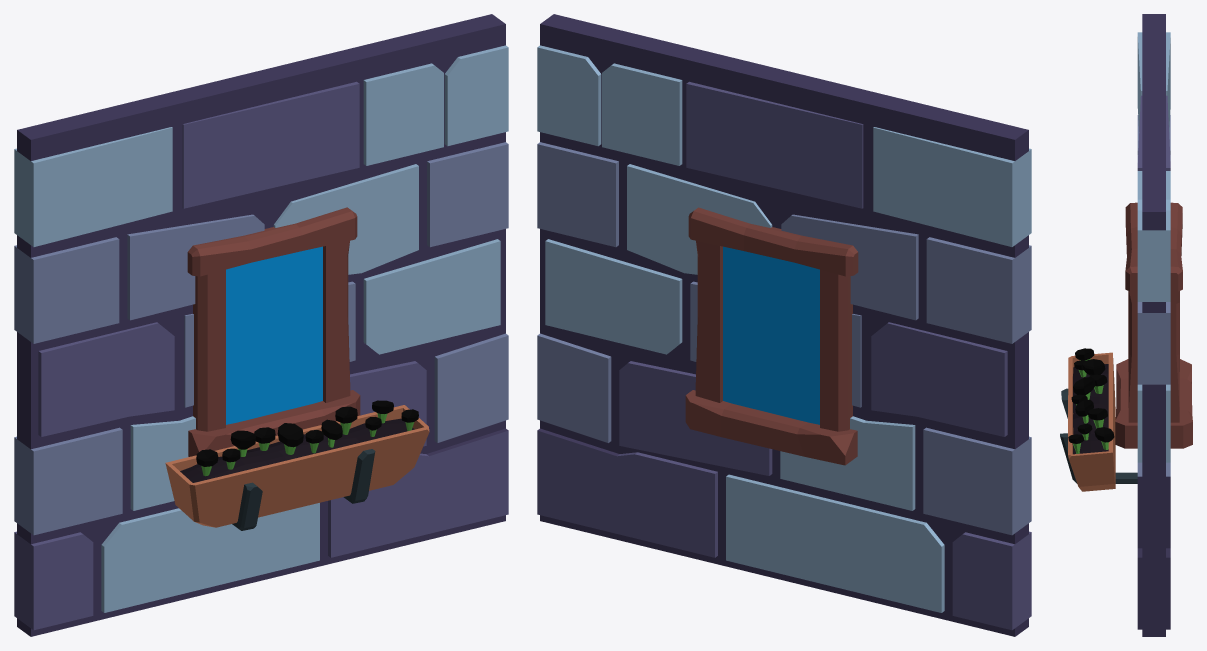
The model's file is Modular Wall 08 MK2 W3.fbx.
3 views of the same model, side by side, from view 1: azimuth 30°, elevation 25°; view 2: azimuth 150°, elevation 25°; view 3: azimuth 270°, elevation 25° (orthographic). The views are drawn at different scales.
Visible parts, largest first — view 1: Modular Wall 08 MK2 W3; view 2: Modular Wall 08 MK2 W3; view 3: Modular Wall 08 MK2 W3.
Boxes of the visible parts, <box> form: Modular Wall 08 MK2 W3: <box>14,14,508,636</box>; Modular Wall 08 MK2 W3: <box>537,14,1031,636</box>; Modular Wall 08 MK2 W3: <box>1060,14,1192,636</box>.
Size of the model in its own units: 400 by 400 by 113.
